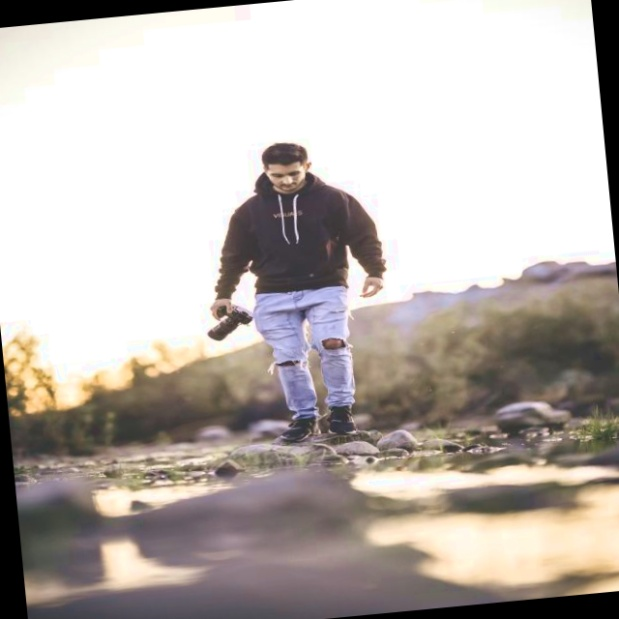ripped_pants: (255, 285, 360, 416)
